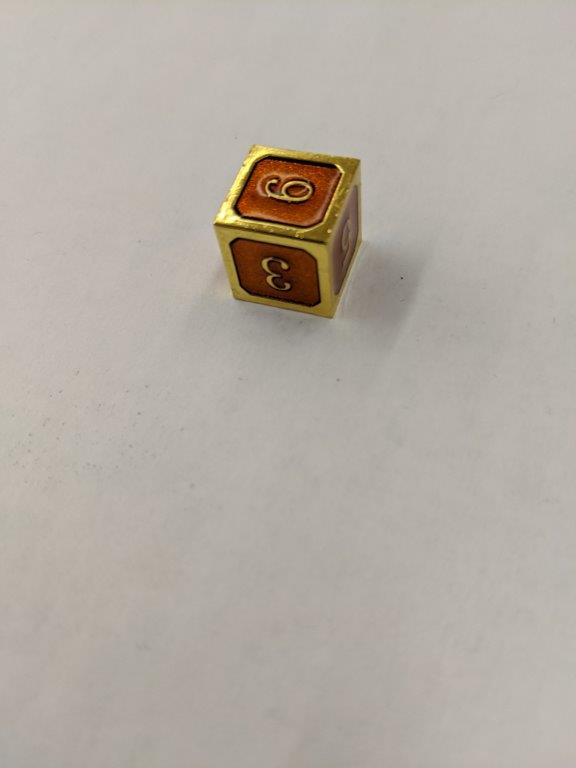d6-6: (211, 141, 360, 321)
